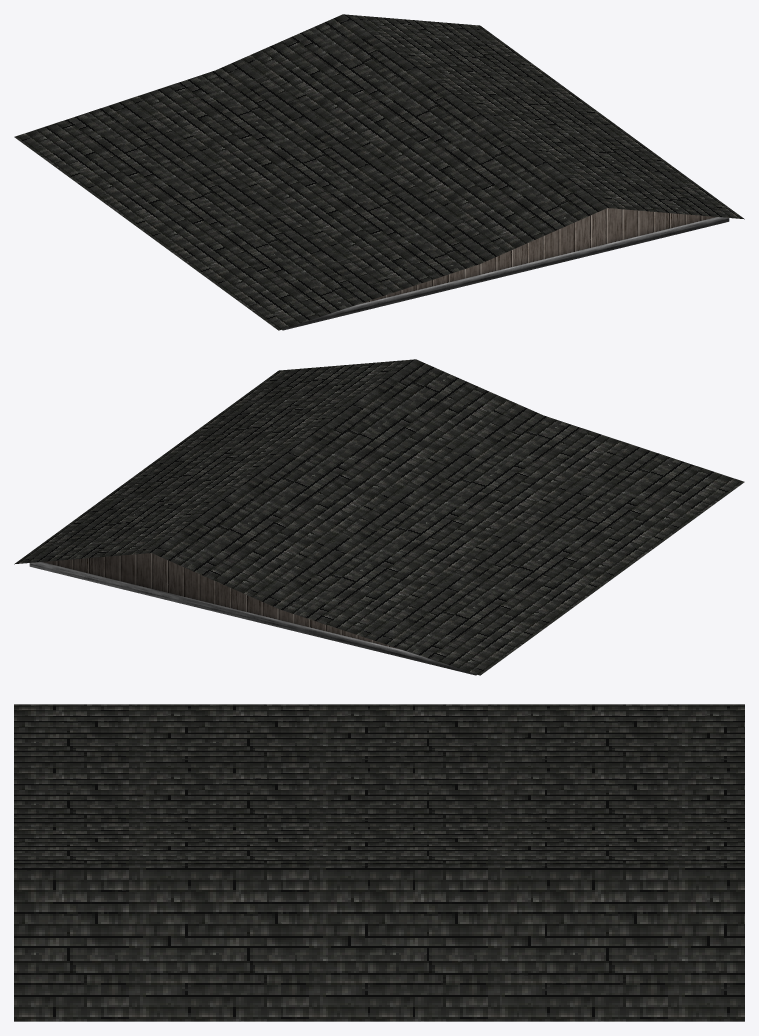
The model's file is roof9.obj.
3 views of the same model, one above another, from view 1: azimuth 30°, elevation 25°; view 2: azimuth 150°, elevation 25°; view 3: azimuth 270°, elevation 25° (orthographic). The views are drawn at different scales.
Parts seen in each view (by area): view 1: base9; view 2: base9; view 3: base9.
Part boxes in pixels (box(x1,y1,x2,y2)): base9: box(14, 14, 744, 330); base9: box(14, 359, 744, 675); base9: box(14, 704, 744, 1021).
Size of the model in its own units: 468 by 47 by 460.
